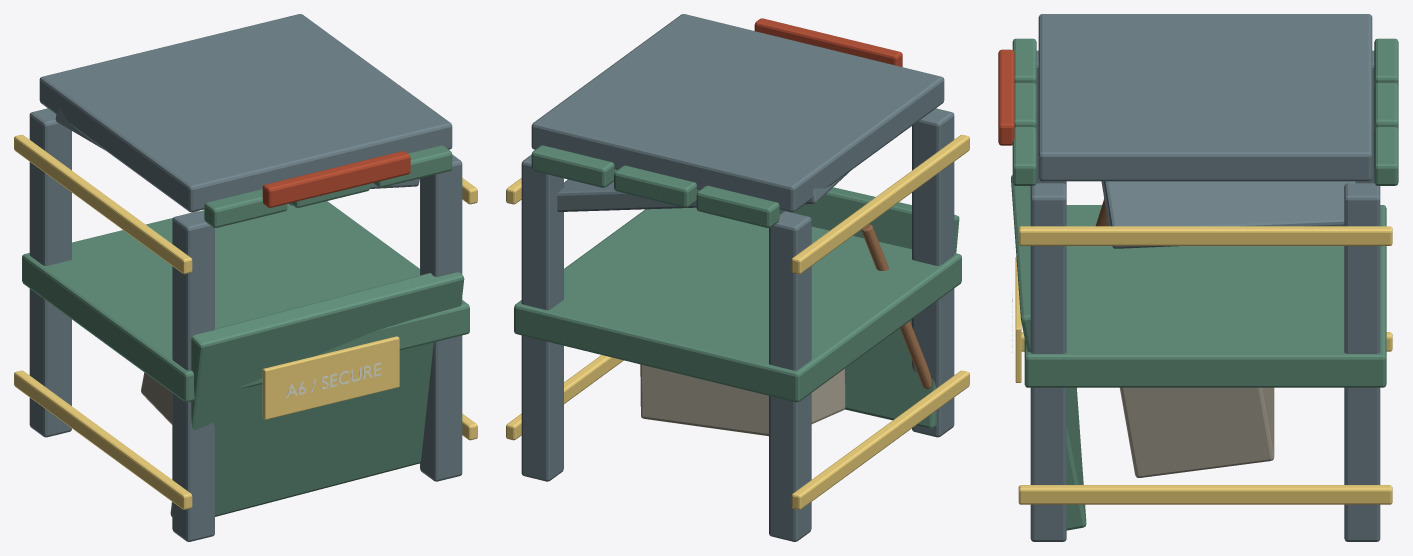
The model's file is secure_case_d2.glb.
3 views of the same model, side by side, from view 1: azimuth 30°, elevation 25°; view 2: azimuth 150°, elevation 25°; view 3: azimuth 270°, elevation 25° (orthographic). The views are drawn at different scales.
Visible parts, largest first — view 1: Reinforced lid.002, Compressed front panel.001, Crate shell.005, Corner post.020, Corner post.021, Corner post.022, Identification placard.005, Vertical tie band.020, Vertical tie band.021, Lock bar.002, Lid slat.030, Lid slat.032 (+3 smaller); view 2: Reinforced lid.002, Crate shell.005, Corner post.021, Corner post.023, Corner post.020, Compressed front panel.001, Exposed contents.001, Vertical tie band.020, Vertical tie band.021, Buckled lid.001, Lid slat.033, Lid slat.035 (+4 smaller); view 3: Reinforced lid.002, Crate shell.005, Exposed contents.001, Buckled lid.001, Corner post.022, Corner post.023, Vertical tie band.023, Vertical tie band.022, Compressed front panel.001, Lock bar.002, Lid slat.035, Lid slat.032 (+6 smaller).
Boxes of the visible parts, bbox=[...] form: Reinforced lid.002: bbox=[39, 14, 452, 212]; Compressed front panel.001: bbox=[170, 272, 464, 516]; Crate shell.005: bbox=[22, 201, 469, 402]; Corner post.020: bbox=[172, 211, 214, 541]; Corner post.021: bbox=[29, 108, 71, 437]; Corner post.022: bbox=[420, 154, 462, 481]; Identification placard.005: bbox=[262, 336, 399, 419]; Vertical tie band.020: bbox=[14, 370, 192, 509]; Vertical tie band.021: bbox=[14, 134, 192, 274]; Lock bar.002: bbox=[262, 151, 410, 207]; Lid slat.030: bbox=[204, 189, 287, 227]; Lid slat.032: bbox=[372, 145, 452, 187]; Reinforced lid.002: bbox=[531, 14, 944, 212]; Crate shell.005: bbox=[514, 207, 961, 402]; Corner post.021: bbox=[769, 211, 811, 541]; Corner post.023: bbox=[521, 154, 563, 481]; Corner post.020: bbox=[912, 108, 954, 437]; Compressed front panel.001: bbox=[779, 187, 959, 428]; Exposed contents.001: bbox=[640, 364, 845, 436]; Vertical tie band.020: bbox=[791, 370, 969, 509]; Vertical tie band.021: bbox=[791, 134, 969, 274]; Buckled lid.001: bbox=[557, 169, 849, 211]; Lid slat.033: bbox=[696, 185, 779, 227]; Lid slat.035: bbox=[531, 145, 614, 187]; Reinforced lid.002: bbox=[1038, 14, 1372, 181]; Crate shell.005: bbox=[1024, 205, 1386, 387]; Exposed contents.001: bbox=[1120, 387, 1274, 477]; Buckled lid.001: bbox=[1101, 181, 1355, 248]; Corner post.022: bbox=[1030, 183, 1066, 541]; Corner post.023: bbox=[1344, 183, 1380, 541]; Vertical tie band.023: bbox=[1018, 226, 1392, 245]; Vertical tie band.022: bbox=[1018, 485, 1392, 504]; Compressed front panel.001: bbox=[1011, 175, 1086, 530]; Lock bar.002: bbox=[998, 49, 1014, 145]; Lid slat.035: bbox=[1374, 127, 1398, 185]; Lid slat.032: bbox=[1012, 127, 1036, 185].
Bounding box in the file's own units: 1.86 × 2.12 × 1.99.
